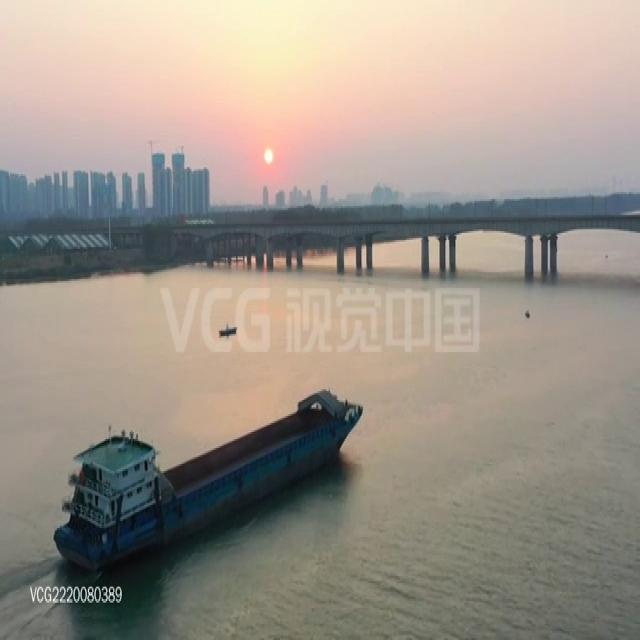cargoship: (56, 394, 369, 543)
